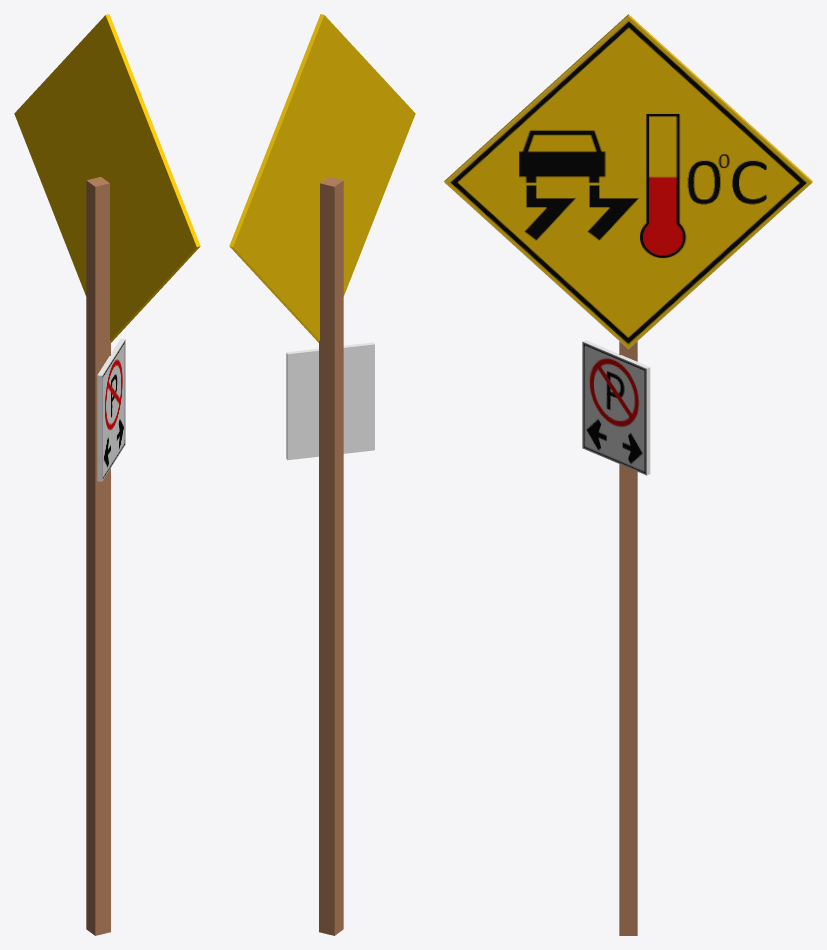
The model's file is sign6.fbx.
3 views of the same model, side by side, from view 1: azimuth 30°, elevation 25°; view 2: azimuth 150°, elevation 25°; view 3: azimuth 270°, elevation 25° (orthographic).
Parts seen in each view (by area): view 1: Cylinder.004_Cylinder.002; view 2: Cylinder.004_Cylinder.002; view 3: Cylinder.004_Cylinder.002.
Part boxes in pixels (x1=…): Cylinder.004_Cylinder.002: x1=14, y1=14, x2=200, y2=935; Cylinder.004_Cylinder.002: x1=229, y1=14, x2=415, y2=935; Cylinder.004_Cylinder.002: x1=444, y1=14, x2=812, y2=935.
Size of the model in its own units: 28.39 by 424 by 154.
